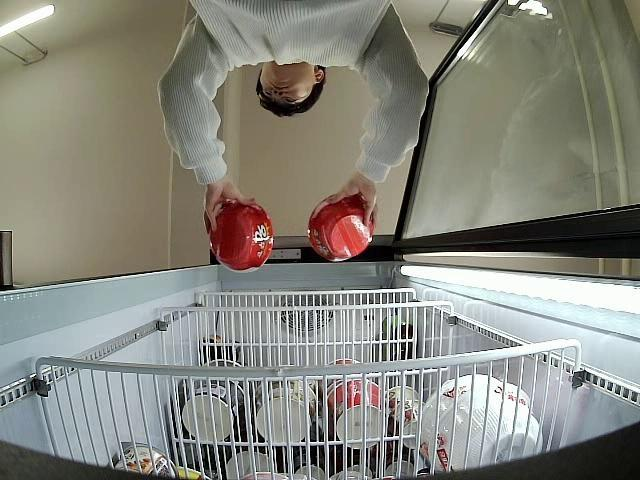10_wangTtukkeong: (207, 201, 275, 275), (307, 193, 376, 264)
